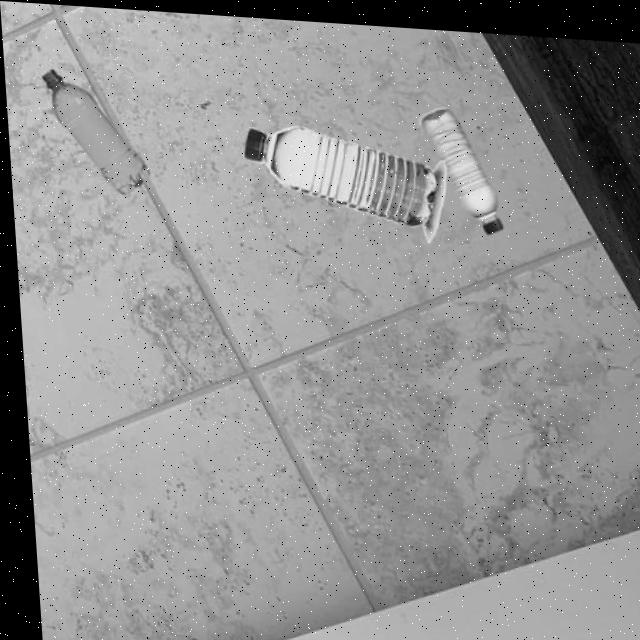bottle: (238, 117, 438, 226), (38, 67, 149, 196), (415, 100, 502, 229)
